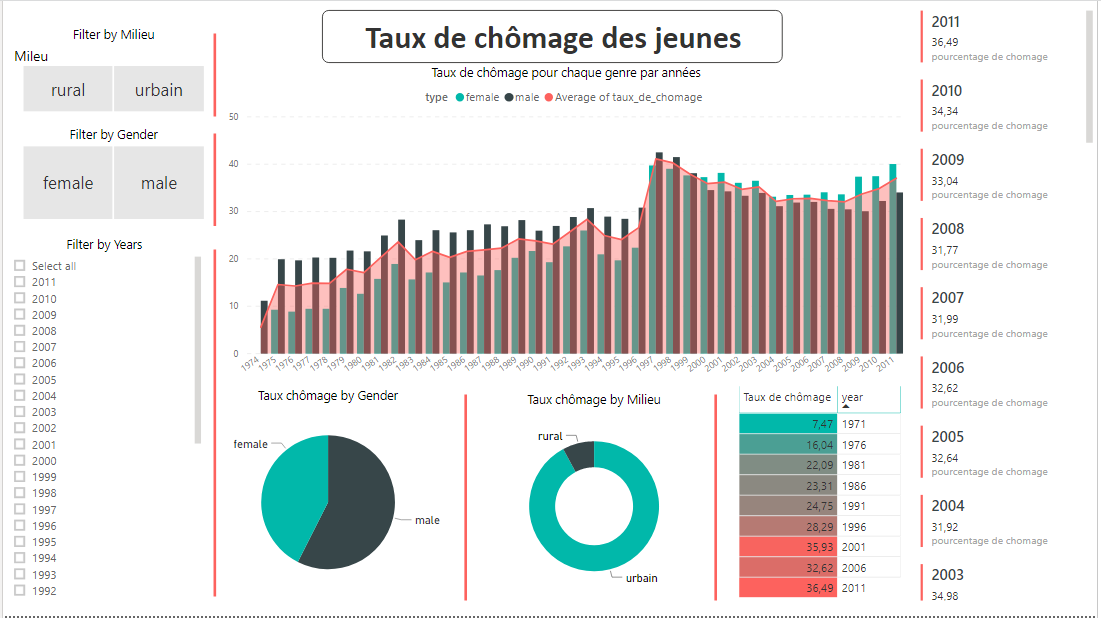

What the dashboard file says about the page in this screenshot:
{"tool":"powerbi","page":{"name":"Taux de chômage","canvas":[1280,720],"ordinal":1},"visuals":[{"type":"slicer","title":"Filter by Milieu","fields":{"Values":["mydb milieu.type"]},"box":[0,28.1,258.6,106.5],"z":0},{"type":"slicer","title":"Filter by Gender","fields":{"Values":["mydb gender.type"]},"box":[0,145.1,258.6,114.7],"z":1000},{"type":"slicer","title":"Filter by Years","fields":{"Values":["mydb temps.year"]},"box":[0,273.6,236.7,433],"z":2000},{"type":"textbox","box":[373.2,10.5,539.4,62],"z":3000},{"type":"lineClusteredColumnComboChart","title":"Taux de chômage pour chaque genre par années","fields":{"Category":["mydb temps.year"],"Y":["Avg(mydb youth.taux_de_chomage)"],"Series":["mydb gender.type"],"Y2":["Avg(mydb youth.taux_de_chomage)"]},"box":[258.6,72.5,800.3,374.4],"z":4000},{"type":"multiRowCard","fields":{"Values":["Avg(mydb youth.taux_de_chomage)","mydb temps.year"]},"box":[1068.2,5.9,211.8,700.8],"z":5000},{"type":"pieChart","title":"Taux chômage by Gender","fields":{"Y":["Avg(mydb youth.taux_de_chomage)"],"Category":["mydb gender.type"]},"box":[236.3,450.5,287.8,251.6],"z":6000},{"type":"donutChart","title":"Taux chômage by Milieu","fields":{"Y":["Avg(mydb youth.taux_de_chomage)"],"Category":["mydb milieu.type"]},"box":[558.1,455.1,266.8,251.6],"z":7000},{"type":"tableEx","fields":{"Values":["Avg(mydb youth.taux_de_chomage)","mydb temps.year"]},"box":[855.3,445.8,203.6,273.8],"z":8000},{"type":"basicShape","box":[236.7,28.6,22.6,116.6],"z":9000},{"type":"basicShape","box":[236.7,145.1,22.6,128.5],"z":10000},{"type":"basicShape","box":[236.7,280.7,22.6,425.9],"z":11000},{"type":"basicShape","box":[532.4,450.5,17.6,260.9],"z":12000},{"type":"basicShape","box":[824.9,450.5,17.6,260.9],"z":13000}]}

Visuals, with their boxes in screenshot pixels (x1, y1, x2, y2), scaled from the page's 1280x720 canvas onto the 1101x618 screenshot:
"Filter by Milieu" slicer: bbox(0, 24, 222, 116)
"Filter by Gender" slicer: bbox(0, 125, 222, 223)
"Filter by Years" slicer: bbox(0, 235, 204, 606)
textbox: bbox(321, 9, 785, 62)
"Taux de chômage pour chaque genre par années" lineClusteredColumnComboChart: bbox(222, 62, 911, 384)
multiRowCard - Avg(mydb youth.taux_de_chomage) x mydb temps.year: bbox(919, 5, 1100, 607)
"Taux chômage by Gender" pieChart: bbox(203, 387, 451, 603)
"Taux chômage by Milieu" donutChart: bbox(480, 391, 710, 607)
tableEx - Avg(mydb youth.taux_de_chomage) x mydb temps.year: bbox(736, 383, 911, 617)
basicShape: bbox(204, 25, 223, 125)
basicShape: bbox(204, 125, 223, 235)
basicShape: bbox(204, 241, 223, 606)
basicShape: bbox(458, 387, 473, 611)
basicShape: bbox(710, 387, 725, 611)
